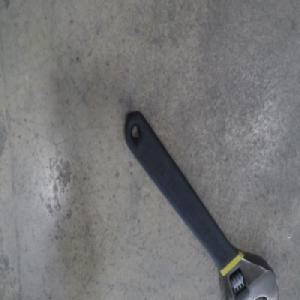AdjustableWrench: (123, 110, 278, 299)
